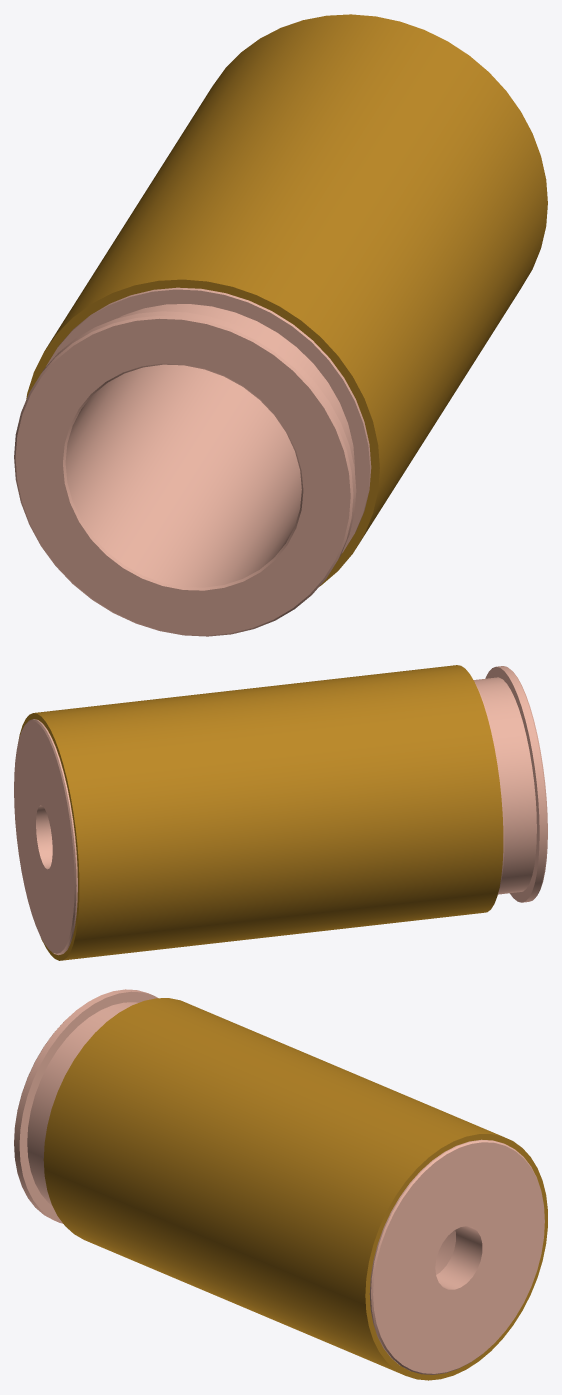
The model's file is 10.5_truba-kontakta-tk-2000.glb.
3 renders of one model, top to bottom at view 1: azimuth 30°, elevation 25°; view 2: azimuth 150°, elevation 25°; view 3: azimuth 270°, elevation 25°, orthographic. The views are drawn at different scales.
Visible parts, largest first — view 1: 10.5_truba-kontakta-tk-2000; view 2: 10.5_truba-kontakta-tk-2000; view 3: 10.5_truba-kontakta-tk-2000.
Part boxes in pixels (x1,y1,x2,y2): 10.5_truba-kontakta-tk-2000: (14,14,547,636); 10.5_truba-kontakta-tk-2000: (14,665,547,960); 10.5_truba-kontakta-tk-2000: (14,989,547,1380).
Size of the model in its own units: 171 by 82.95 by 171.
